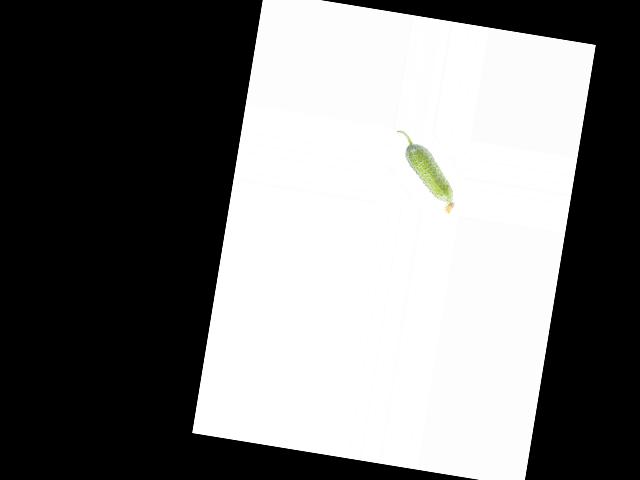cucumber: (385, 130, 464, 215)
